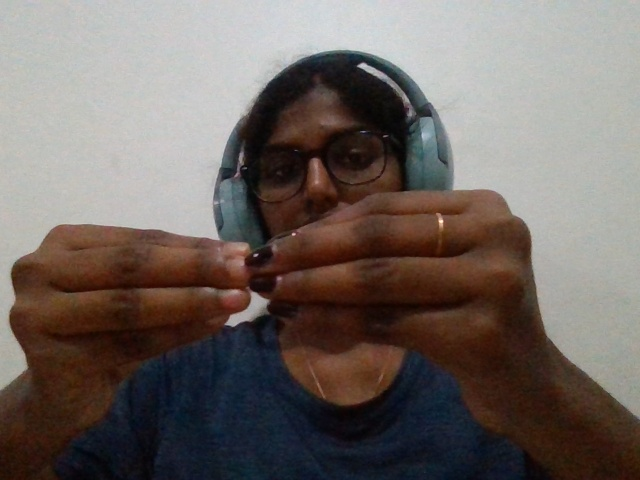More: (3, 137, 619, 457)
